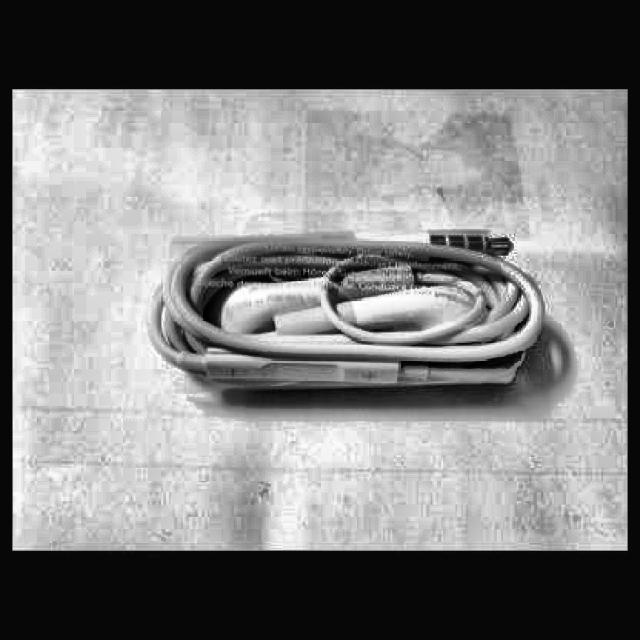Cable: (150, 229, 545, 391)
